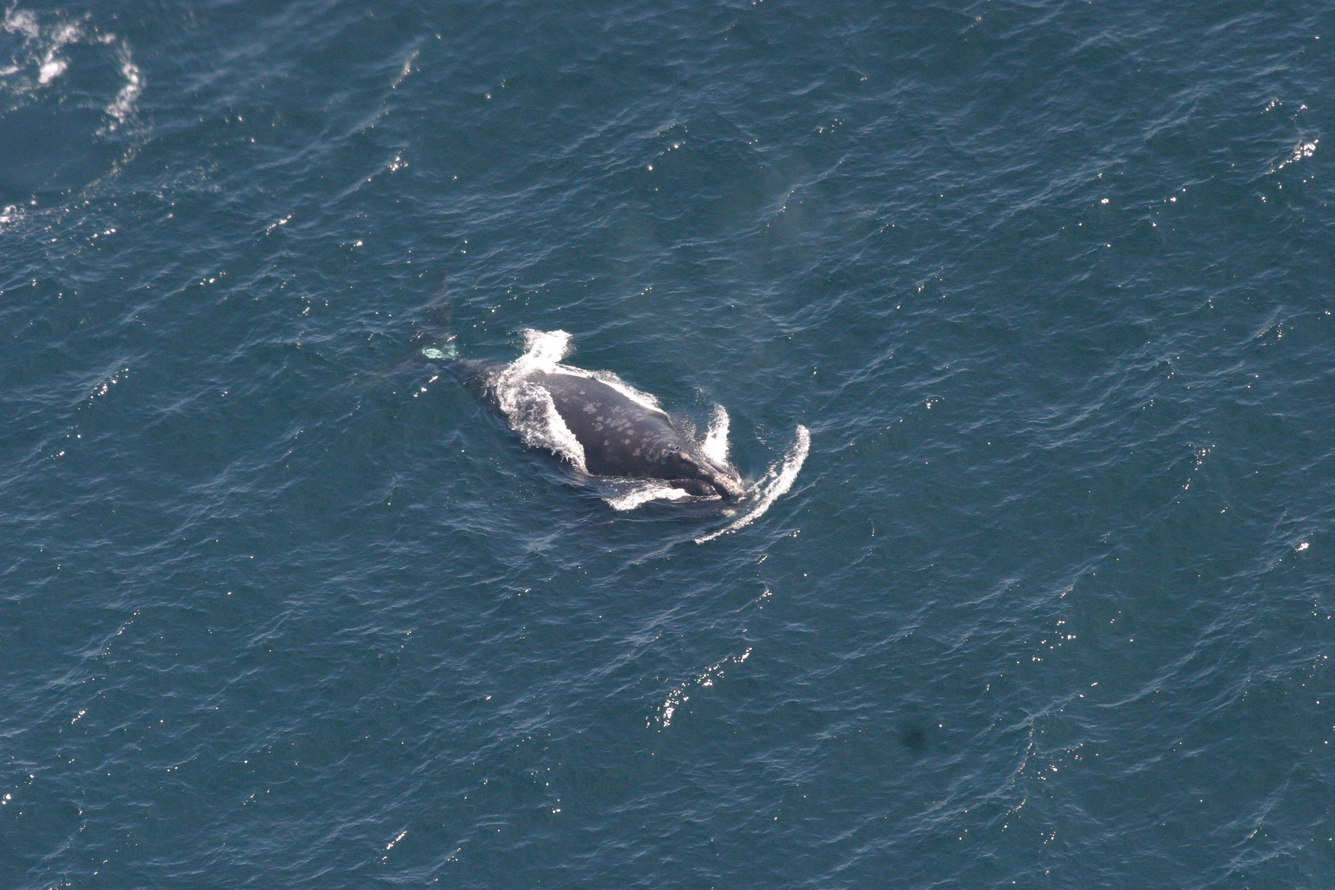whale: (339, 268, 772, 520)
